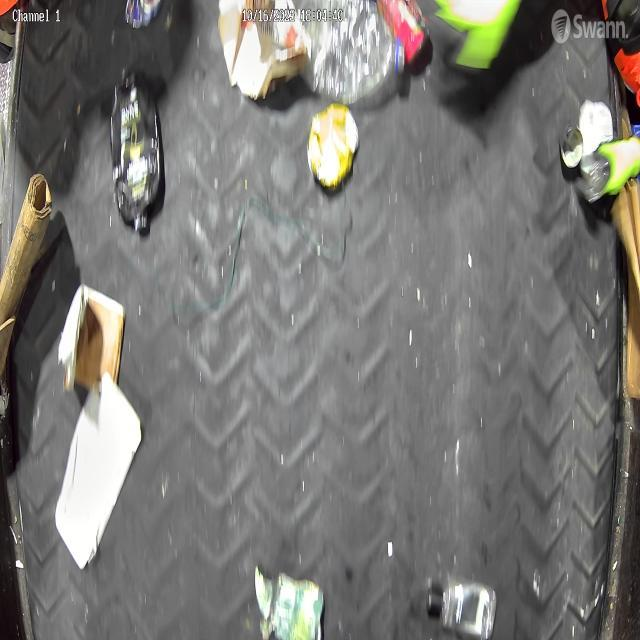can: (253, 565, 325, 640), (306, 105, 359, 188), (376, 0, 430, 68)
non_white_jug: (109, 69, 162, 233)
